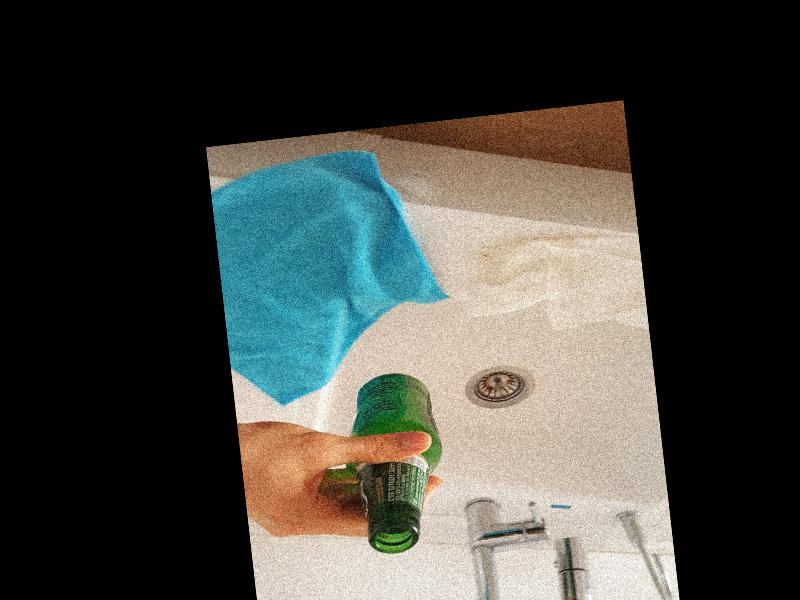Beer: (338, 367, 454, 557)
